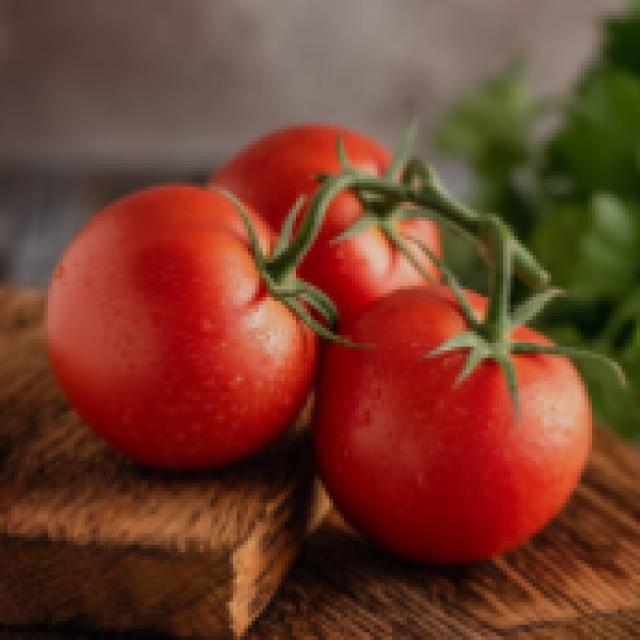Tomato: (60, 178, 330, 464)
